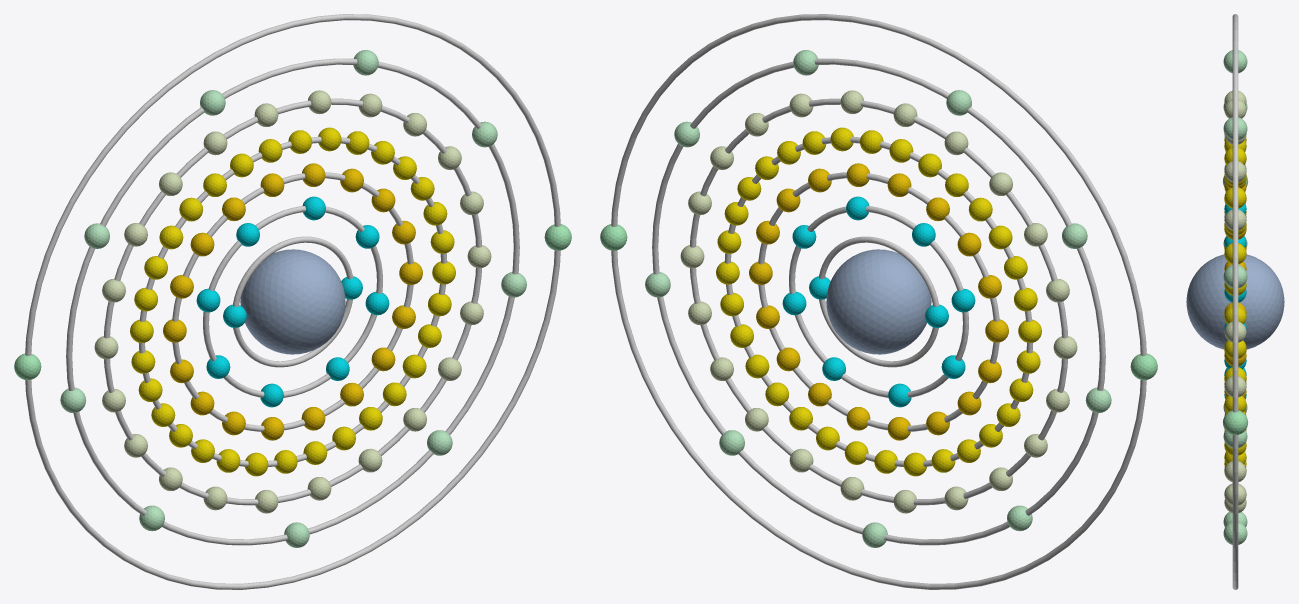
3 renders of one model, left to right at view 1: azimuth 30°, elevation 25°; view 2: azimuth 150°, elevation 25°; view 3: azimuth 270°, elevation 25°, orthographic. The views are drawn at different scales.
Visible parts, largest first — view 1: world; view 2: world; view 3: world.
Boxes of the visible parts, x1,y1,x2,y2 form: world: [14, 14, 571, 589]; world: [600, 14, 1157, 589]; world: [1186, 14, 1284, 589].
Bounding box in the file's own units: 2.67 × 2.59 × 0.44.
